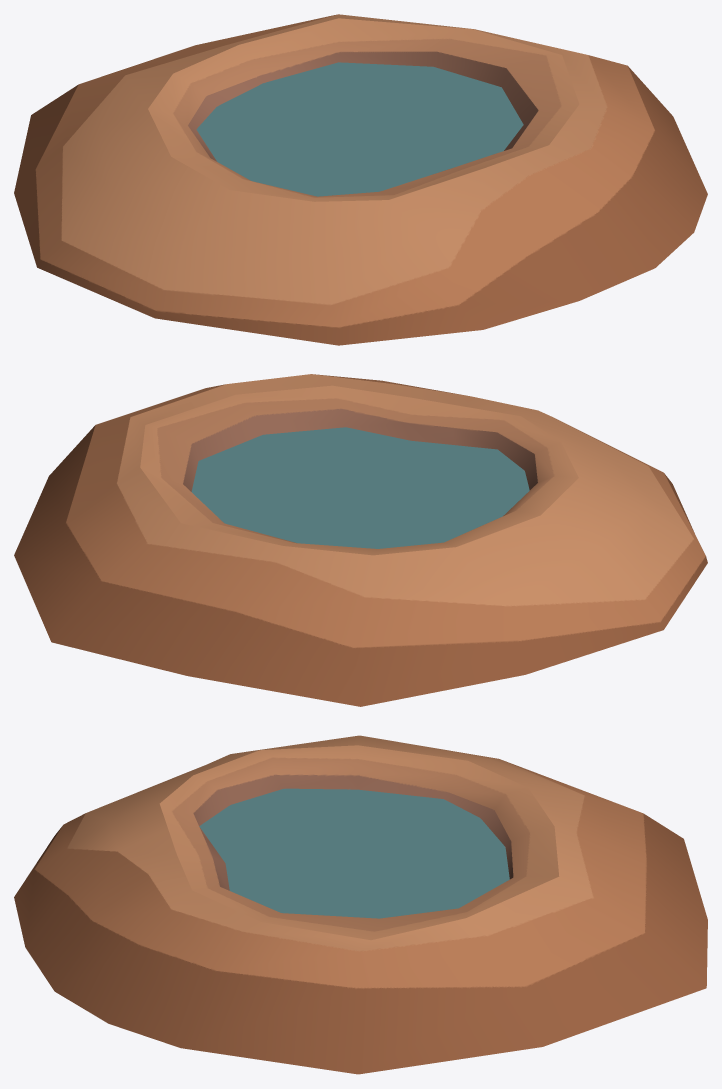
Rendered from oasis_mesh.fbx.
The picture shows the model from 3 angles, top to bottom: view 1: azimuth 30°, elevation 25°; view 2: azimuth 150°, elevation 25°; view 3: azimuth 270°, elevation 25°; orthographic projection. The views are drawn at different scales.
Parts seen in each view (by area): view 1: oasis_mesh; view 2: oasis_mesh; view 3: oasis_mesh.
Boxes of the visible parts, x1,y1,x2,y2 form: oasis_mesh: (14,14,707,345); oasis_mesh: (14,374,707,706); oasis_mesh: (14,735,707,1074).
Size of the model in its own units: 338 by 43.08 by 320.
